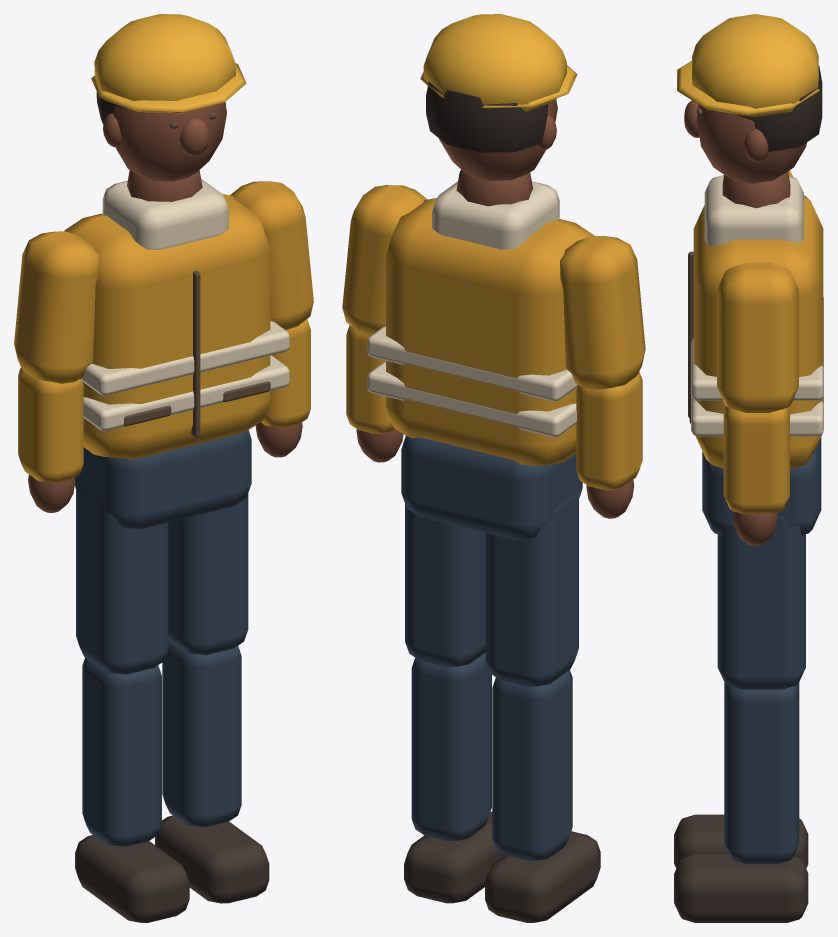
Rendered from pedestrian-crew.glb.
3 renders of one model, left to right at view 1: azimuth 30°, elevation 25°; view 2: azimuth 150°, elevation 25°; view 3: azimuth 270°, elevation 25°, orthographic.
Parts seen in each view (by area): view 1: upper-body, left-thigh, left-knee, right-knee, Harbor pedestrian crew, right-thigh, left-shoulder, left-elbow, head, left-ankle, right-ankle, right-shoulder (+1 smaller); view 2: upper-body, left-thigh, left-knee, right-knee, Harbor pedestrian crew, right-thigh, left-shoulder, head, left-elbow, left-ankle, right-shoulder, right-ankle (+1 smaller); view 3: upper-body, right-thigh, right-knee, right-shoulder, right-ankle, right-elbow, head, Harbor pedestrian crew, left-ankle.
Part boxes in pixels (<box>): upper-body: <box>64,14,289,459</box>; left-thigh: <box>76,484,168,674</box>; left-knee: <box>82,657,161,846</box>; right-knee: <box>162,641,241,827</box>; Harbor pedestrian crew: <box>74,430,251,529</box>; right-thigh: <box>168,493,248,654</box>; left-shoulder: <box>14,231,98,383</box>; left-elbow: <box>18,367,83,512</box>; head: <box>96,92,226,181</box>; left-ankle: <box>75,835,189,922</box>; right-ankle: <box>155,815,269,903</box>; right-shoulder: <box>230,181,313,330</box>; upper-body: <box>367,14,593,466</box>; left-thigh: <box>485,494,578,686</box>; left-knee: <box>492,670,572,860</box>; right-knee: <box>411,653,491,841</box>; Harbor pedestrian crew: <box>401,435,582,539</box>; right-thigh: <box>405,504,485,666</box>; left-shoulder: <box>560,235,645,389</box>; head: <box>426,82,557,180</box>; left-elbow: <box>576,371,642,518</box>; left-ankle: <box>485,831,600,922</box>; right-shoulder: <box>342,185,427,335</box>; right-ankle: <box>404,811,504,903</box>; upper-body: <box>677,14,823,469</box>; right-thigh: <box>717,516,805,689</box>; right-knee: <box>724,683,799,863</box>; right-shoulder: <box>717,262,798,412</box>; right-ankle: <box>674,854,808,922</box>; right-elbow: <box>723,406,789,546</box>; head: <box>684,65,822,183</box>; Harbor pedestrian crew: <box>702,437,821,535</box>; left-ankle: <box>674,814,808,868</box>.
Size of the model in its own units: 0.6083 by 1.78 by 0.2775.
